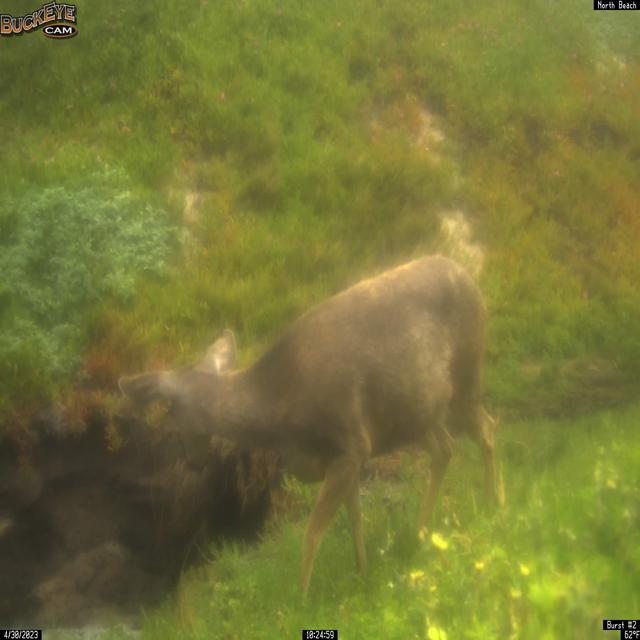deer: (117, 253, 503, 609)
